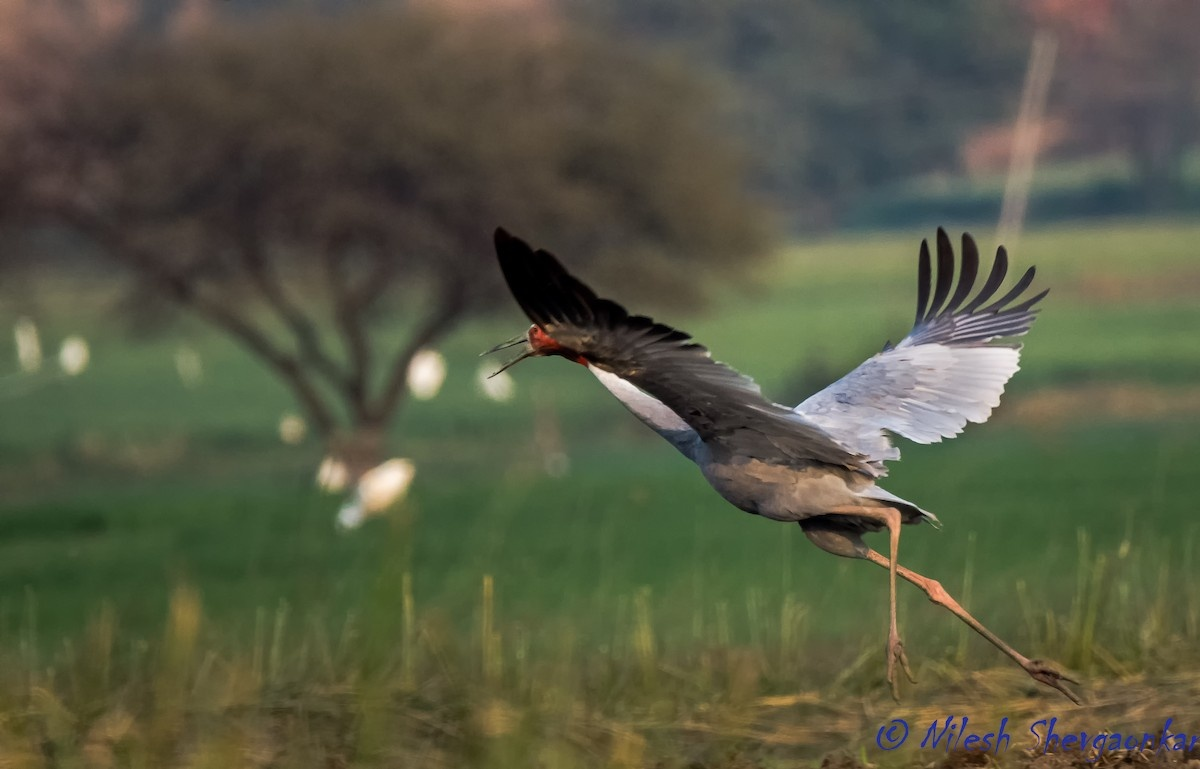crane: (482, 217, 1111, 708)
